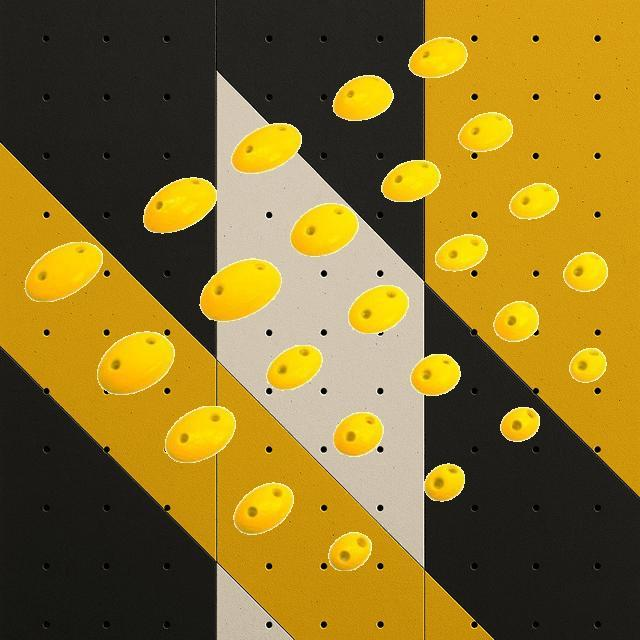Crimp: (200, 259, 280, 321), (97, 330, 173, 394), (24, 241, 102, 301), (142, 177, 215, 233), (165, 406, 235, 462), (290, 202, 358, 255), (232, 123, 300, 173), (234, 482, 292, 534), (348, 284, 408, 334), (332, 74, 392, 120), (266, 344, 322, 390), (382, 159, 438, 201), (408, 37, 466, 77), (458, 112, 512, 152), (333, 412, 382, 456), (411, 353, 459, 395), (436, 234, 486, 270), (494, 301, 538, 341), (510, 182, 558, 218), (564, 252, 606, 292), (328, 532, 370, 570), (424, 464, 464, 501), (500, 407, 540, 441), (569, 348, 605, 382)
